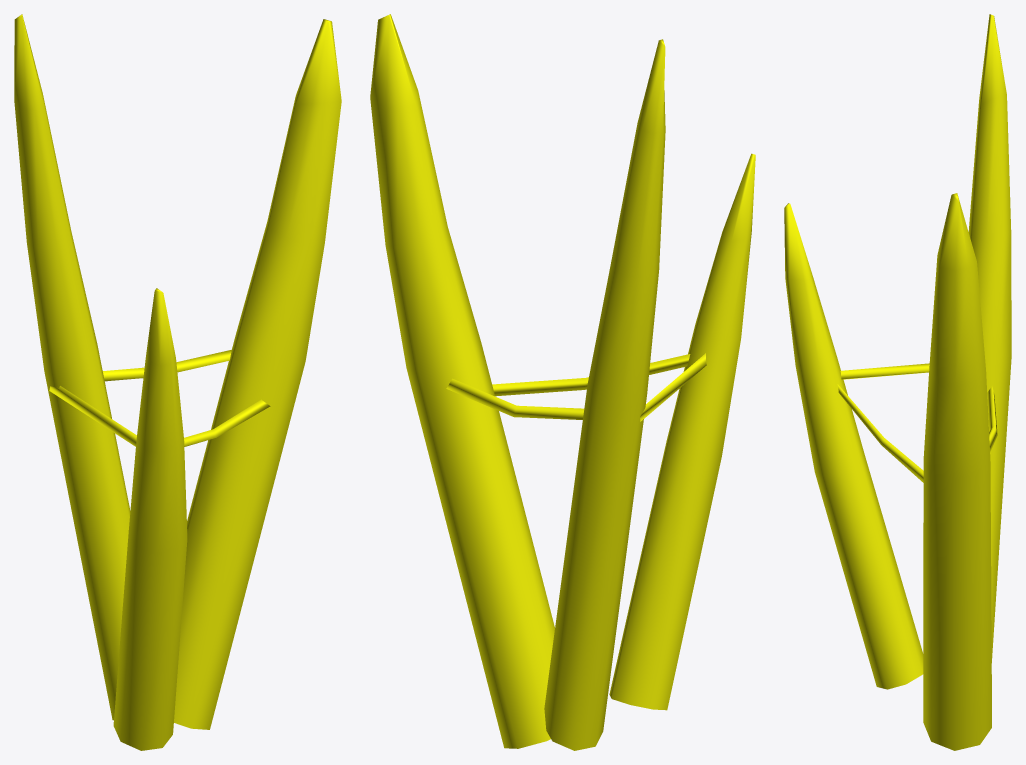
File: camp_redthief_gate_03.glb
The picture shows the model from 3 angles, left to right: view 1: azimuth 30°, elevation 25°; view 2: azimuth 150°, elevation 25°; view 3: azimuth 270°, elevation 25°; orthographic projection. The views are drawn at different scales.
Parts seen in each view (by area): view 1: camp_redthief_gate_03; view 2: camp_redthief_gate_03; view 3: camp_redthief_gate_03.
Boxes of the visible parts, <box> form: camp_redthief_gate_03: <box>14,14,341,750</box>; camp_redthief_gate_03: <box>370,14,755,750</box>; camp_redthief_gate_03: <box>784,14,1011,750</box>.
Bounding box in the file's own units: 4.07 × 9.41 × 2.92.
1 material, 1 textured.
